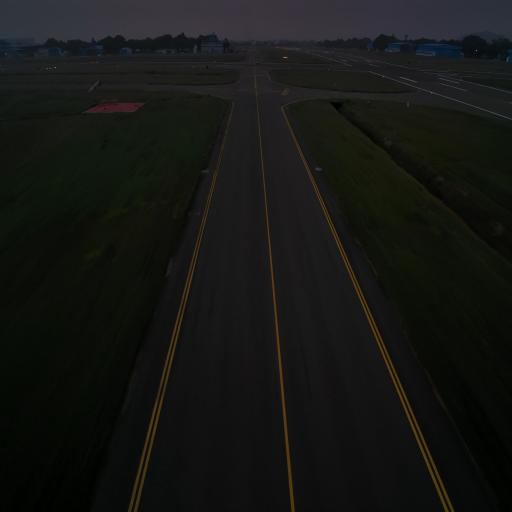on: (206, 166, 209, 172), (316, 164, 318, 168)
